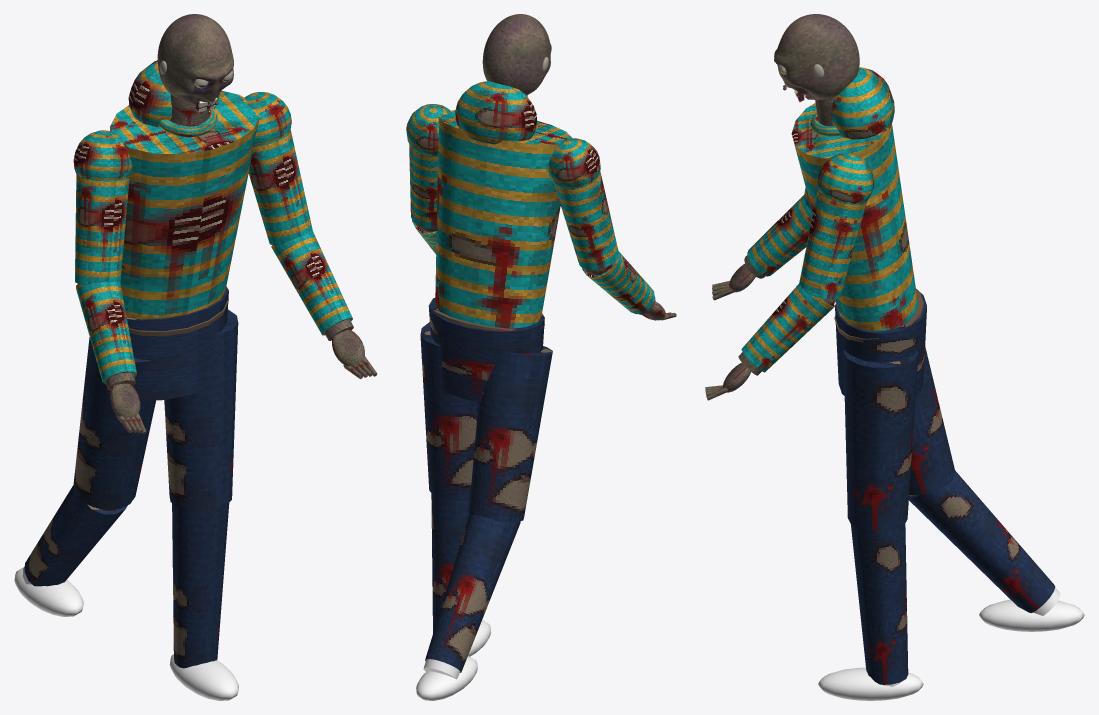
Rendered from Zombie_019.glb.
3 renders of one model, left to right at view 1: azimuth 30°, elevation 25°; view 2: azimuth 150°, elevation 25°; view 3: azimuth 270°, elevation 25°, orthographic. The views are drawn at different scales.
Visible parts, largest first — view 1: Zombie_019, object 18, object 4, object 12, object 13, object 5; view 2: Zombie_019, object 18, object 4; view 3: Zombie_019, object 18, object 12, object 4.
Boxes of the visible parts, x1,y1,x2,y2 form: Zombie_019: (14, 60, 312, 700); object 18: (157, 14, 233, 105); object 4: (76, 281, 136, 384); object 12: (271, 231, 352, 335); object 13: (332, 329, 364, 366); object 5: (110, 383, 140, 418); Zombie_019: (406, 81, 618, 700); object 18: (482, 14, 551, 95); object 4: (582, 251, 654, 314); Zombie_019: (791, 67, 1084, 700); object 18: (774, 14, 859, 100); object 12: (741, 283, 834, 372); object 4: (747, 195, 812, 276).
Bounding box in the file's own units: 0.6831 × 1.85 × 0.9571.
15 materials, 5 textured.
